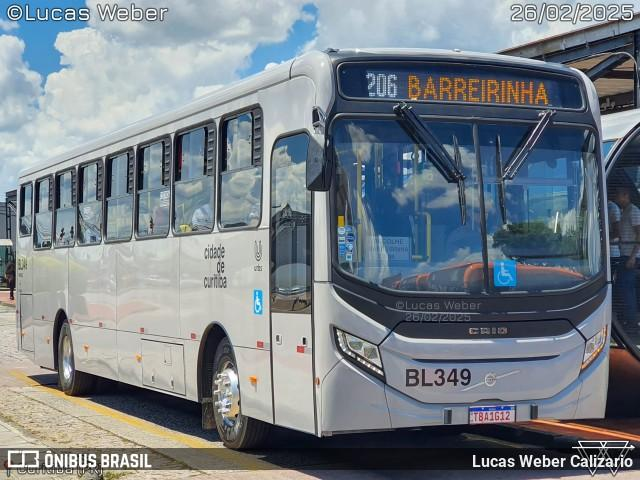BARREIRINHA: (403, 70, 557, 110)
